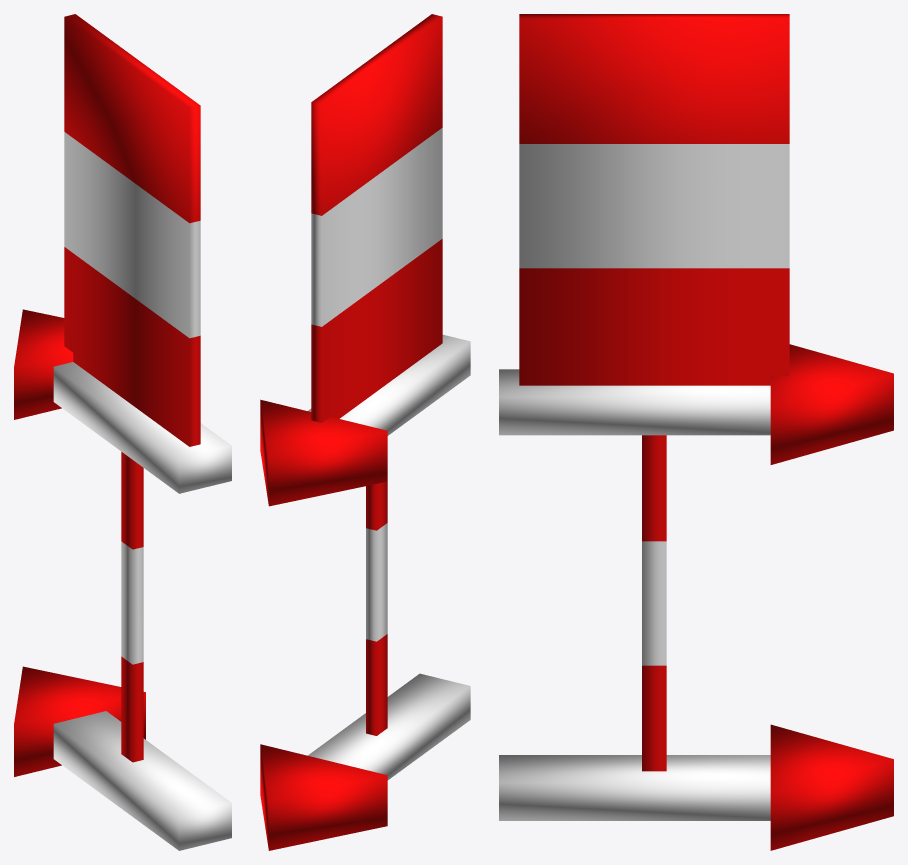
The model's file is INVISIBLE_WAYPOINT.glb.
3 views of the same model, side by side, from view 1: azimuth 30°, elevation 25°; view 2: azimuth 150°, elevation 25°; view 3: azimuth 270°, elevation 25° (orthographic). The views are drawn at different scales.
Parts seen in each view (by area): view 1: Mesh; view 2: Mesh; view 3: Mesh.
Boxes of the visible parts, <box> form: Mesh: <box>14,14,231,850</box>; Mesh: <box>260,14,470,850</box>; Mesh: <box>499,14,893,850</box>.
Bounding box in the file's own units: 0.2 × 1.07 × 0.48.
